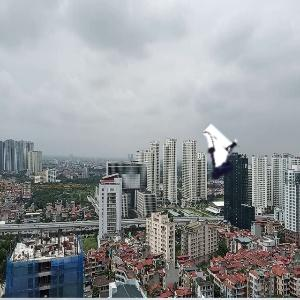drone: (181, 135, 257, 211)
